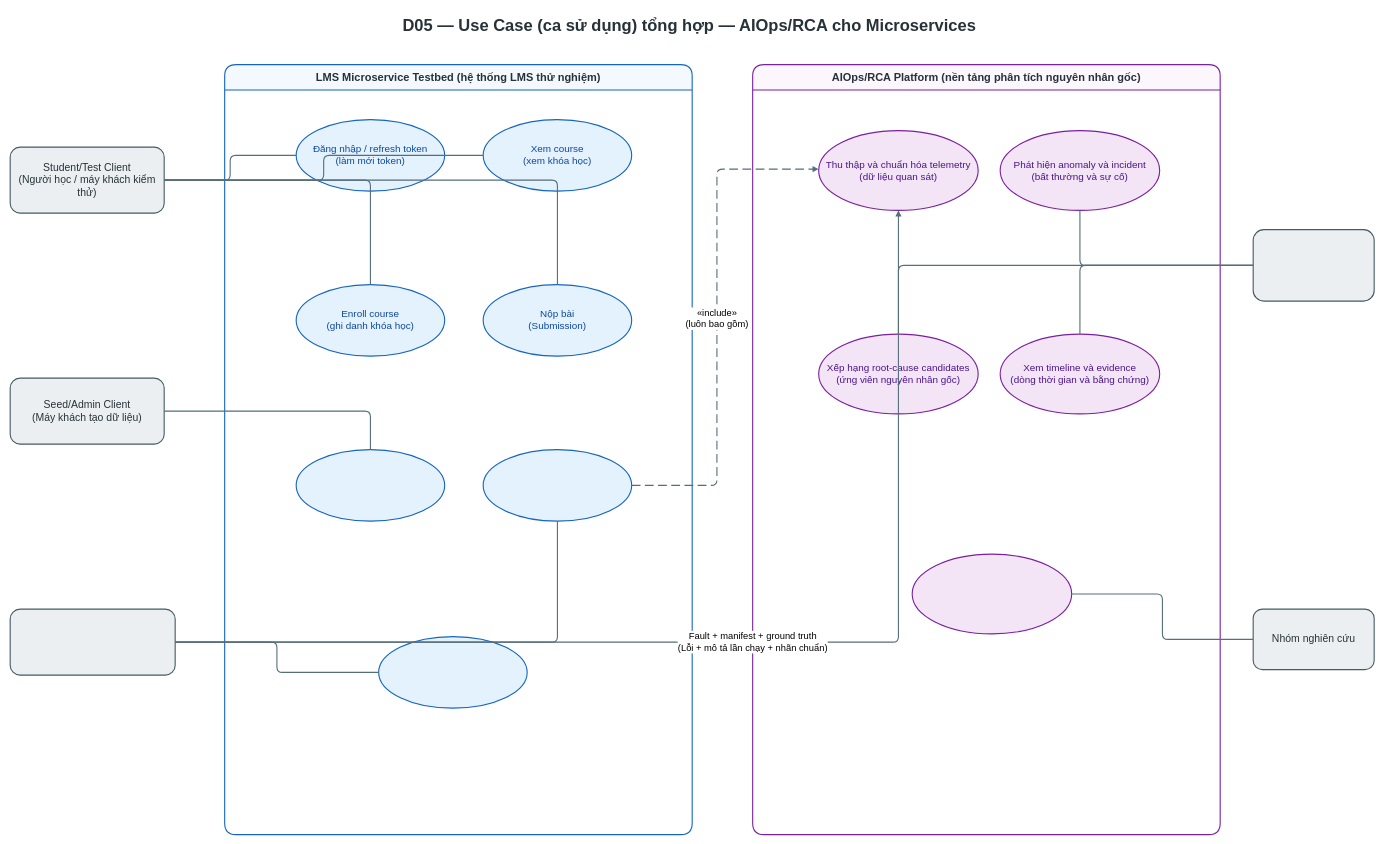
This 1384x844 diagram has some shape labels left out. Here are the shapes that lost their labels. From the top down, the centre of each, then its label:
At point 1313,265: "Developer/SRE (Kỹ sư phát triển và vận hành)".
At point 370,485: "Tạo dữ liệu course (seed dữ liệu khóa học)".
At point 557,485: "Tạo workload (tải kiểm thử)".
At point 991,593: "Chạy evaluation với ground truth (đánh giá bằng nhãn chuẩn)".
At point 92,641: "Experiment Runner (Bộ điều phối thí nghiệm)".
At point 452,672: "Chấm điểm và phát grade.completed".
